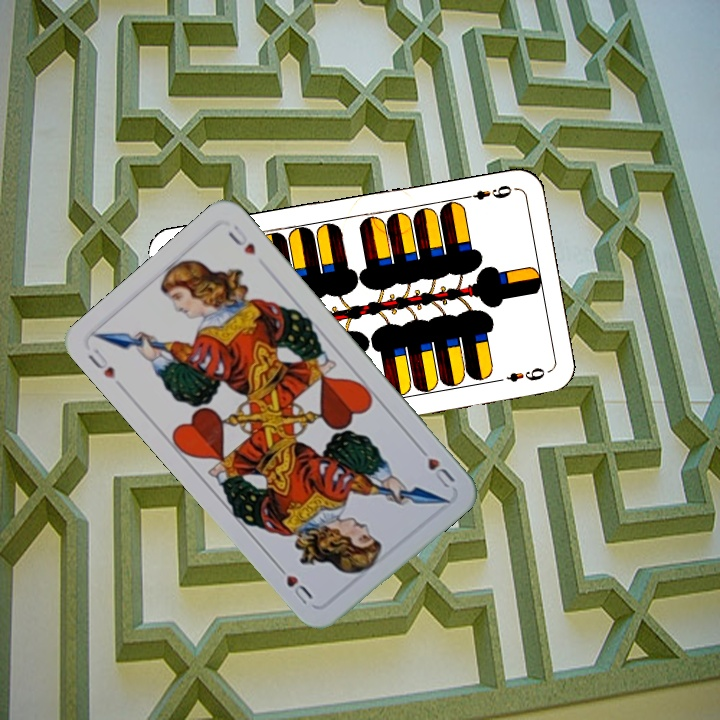E9: (458, 180, 514, 203)
HU: (413, 441, 458, 491), (84, 345, 118, 381)
